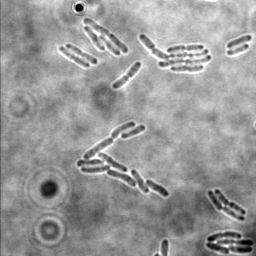Dividing: (206, 190, 245, 222), (213, 188, 247, 216), (112, 60, 142, 89), (57, 45, 90, 69), (64, 43, 98, 65)
Microcolony: (75, 119, 170, 197), (138, 33, 211, 74), (80, 17, 128, 56), (205, 230, 254, 254)
Rod: (226, 33, 252, 48), (226, 43, 249, 57)
